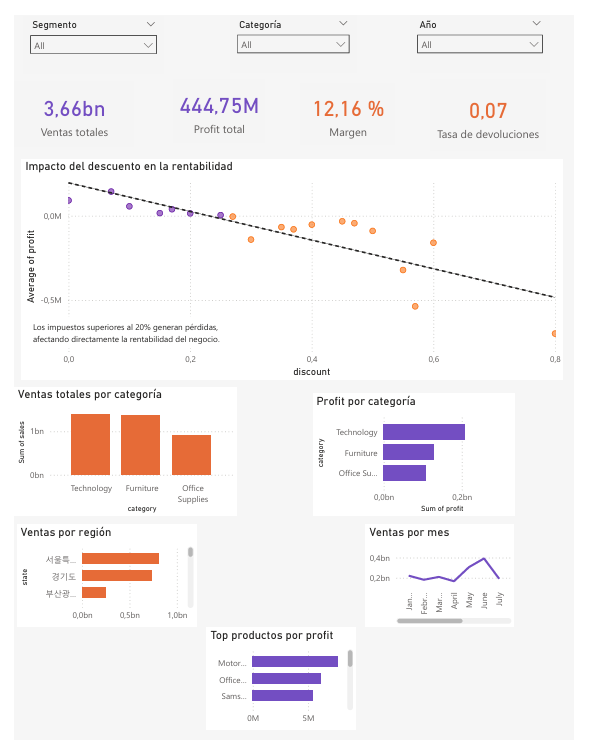

The dashboard page shown, as its layout file describes it:
{"tool":"powerbi","page":{"name":"Page 1","canvas":[816,1056],"ordinal":0},"visuals":[{"type":"card","title":"Profit total","fields":{"Values":["kr_superstore_clean.profit_total"]},"box":[230,81.1,133.6,92],"z":0},{"type":"card","title":"Margen","fields":{"Values":["kr_superstore_clean.Margen"]},"box":[419,86.1,138,88.6],"z":1000},{"type":"card","title":"Tasa de devoluciones","fields":{"Values":["kr_superstore_clean.Tasa Devoluciones"]},"box":[607.6,79.7,167.1,103.8],"z":2000},{"type":"slicer","fields":{"Values":["kr_superstore_clean.segment"]},"box":[0,0,204.1,83.7],"z":3000},{"type":"slicer","fields":{"Values":["kr_superstore_clean.category"]},"box":[236.7,0,183.7,83.7],"z":4000},{"type":"slicer","fields":{"Values":["kr_superstore_clean.order_date.Variation.Date Hierarchy.Year"]},"box":[457.1,0,202,83.7],"z":5000},{"type":"clusteredBarChart","title":"Profit por categoría","fields":{"Category":["kr_superstore_clean.category"],"Y":["Sum(kr_superstore_clean.profit)"]},"box":[436.5,520.6,293.7,177.8],"z":6000},{"type":"clusteredColumnChart","title":"Ventas por categoría","fields":{"Category":["kr_superstore_clean.category"],"Y":["Sum(kr_superstore_clean.sales)"]},"box":[0,504.8,349.2,193.7],"z":7000},{"type":"scatterChart","title":"Impacto del descuento en la rentabilidad","fields":{"X":["kr_superstore_clean.discount"],"Y":["Avg(kr_superstore_clean.profit)"]},"box":[11,181.8,790.9,322.1],"z":8000},{"type":"clusteredBarChart","title":"Ventas por región","fields":{"Y":["Sum(kr_superstore_clean.sales)"],"Category":["kr_superstore_clean.state"]},"box":[4.4,718.6,216.9,149],"z":9000},{"type":"lineChart","title":"Ventas por mes","fields":{"Category":["kr_superstore_clean.order_date.Variation.Date Hierarchy.Month"],"Y":["Sum(kr_superstore_clean.sales)"]},"box":[512.7,718.6,216.9,149],"z":10000},{"type":"clusteredBarChart","title":"Top productos","fields":{"Category":["kr_superstore_clean.product_name"],"Y":["Sum(kr_superstore_clean.profit)"]},"box":[249.8,867.6,216.9,149],"z":11000},{"type":"card","fields":{"Values":["kr_superstore_clean.ventas_totales"]},"box":[0,89.8,175.3,94.2],"z":12000}]}

Visuals, with their boxes in screenshot pixels (x1, y1, x2, y2), scaled from the page's 816x1056 canvas onto the 590x753 screenshot:
"Profit total" card: 166,58,263,123
"Margen" card: 303,61,403,125
"Tasa de devoluciones" card: 439,57,560,131
slicer - kr_superstore_clean.segment: 0,0,148,60
slicer - kr_superstore_clean.category: 171,0,304,60
slicer - kr_superstore_clean.order_date.Variation.Date Hierarchy.Year: 331,0,477,60
"Profit por categoría" clusteredBarChart: 316,371,528,498
"Ventas por categoría" clusteredColumnChart: 0,360,252,498
"Impacto del descuento en la rentabilidad" scatterChart: 8,130,580,359
"Ventas por región" clusteredBarChart: 3,512,160,619
"Ventas por mes" lineChart: 371,512,528,619
"Top productos" clusteredBarChart: 181,619,337,725
card - kr_superstore_clean.ventas_totales: 0,64,127,131
